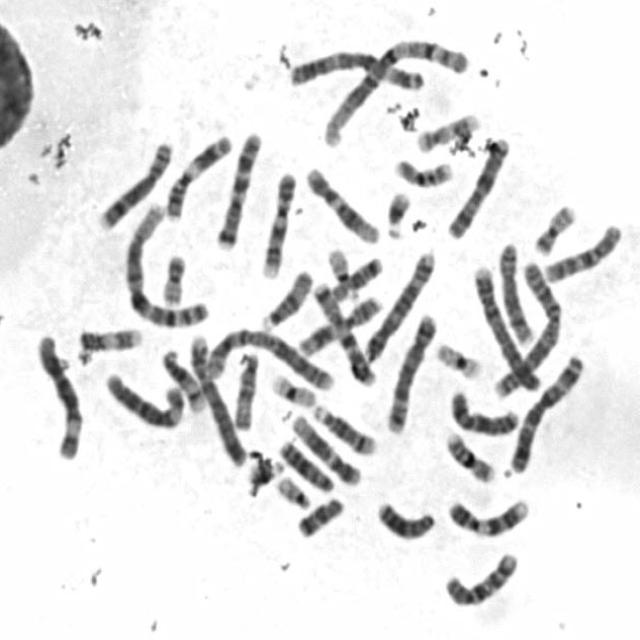A1: (317, 35, 470, 149), (120, 199, 212, 331)
A2: (488, 258, 566, 399), (194, 327, 336, 392)
A3: (506, 350, 586, 475), (286, 46, 426, 93)
B4: (186, 330, 248, 468), (471, 266, 536, 394)
B5: (361, 246, 437, 362), (382, 310, 439, 436)
C10: (542, 222, 626, 288), (438, 547, 520, 610)
C11: (162, 131, 234, 222), (295, 292, 384, 356)
C12: (302, 164, 380, 245), (288, 410, 362, 487)
C6: (32, 330, 84, 463), (101, 368, 186, 431)
C7: (308, 278, 376, 388), (214, 130, 264, 254)
C8: (94, 137, 175, 232), (497, 238, 538, 350)
C9: (259, 169, 298, 281), (444, 494, 530, 539)
D13: (275, 436, 335, 494), (374, 497, 435, 541)
D14: (311, 401, 377, 456), (159, 345, 205, 413)
D15: (257, 267, 314, 331), (230, 349, 261, 432)
E16: (442, 426, 496, 484), (390, 154, 453, 190)
E17: (412, 110, 482, 154), (72, 324, 146, 354)
E18: (331, 256, 385, 302), (294, 494, 345, 539)
F19: (433, 339, 484, 381), (268, 369, 317, 409)
F20: (531, 201, 576, 257), (158, 251, 189, 305)
G21: (381, 188, 413, 241), (245, 456, 284, 484)
G22: (327, 247, 361, 306), (274, 473, 311, 510)
X: (443, 134, 510, 242), (446, 387, 520, 438)
